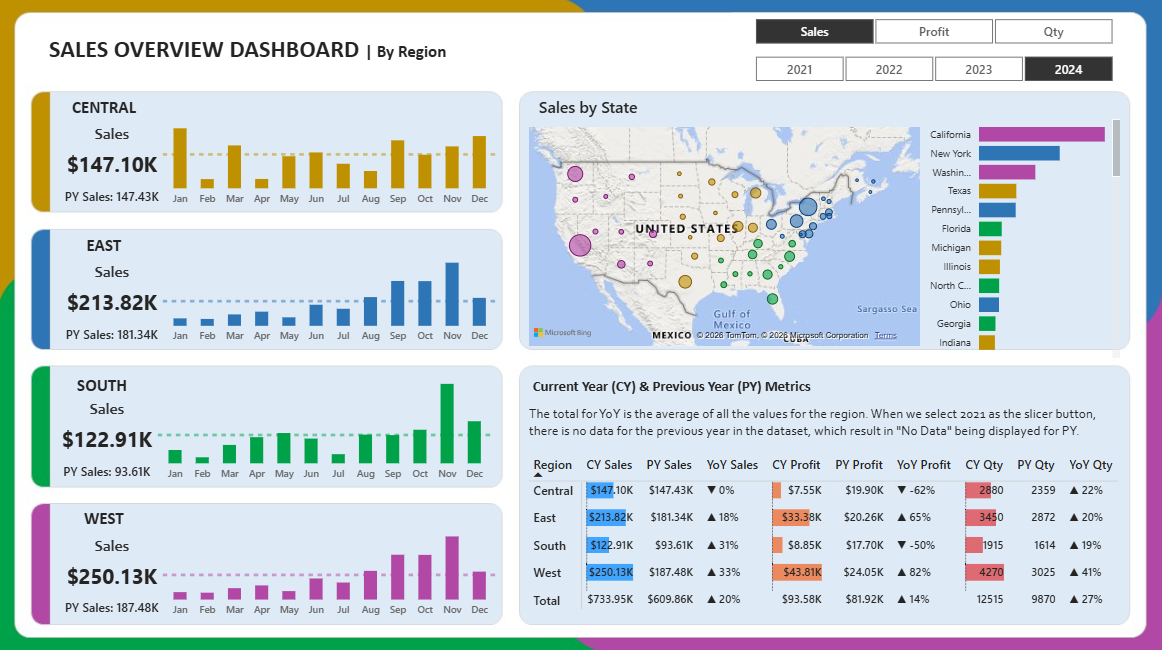

The page's visual inventory and layout, read from the dashboard file:
{"tool":"powerbi","page":{"name":"Page 1","canvas":[1280,720],"ordinal":0},"visuals":[{"type":"slicer","fields":{"Values":["Select Metric.Select Metric"]},"box":[806.9,15.1,441.9,35.7],"z":0},{"type":"card","fields":{"Values":["Sales Data.Total Sales"]},"box":[63.1,163,126.2,39.8],"z":0,"group":"g1"},{"type":"card","fields":{"Values":["Sales Data.Total Sales"]},"box":[63.1,314.6,126.2,39.8],"z":0,"group":"g2"},{"type":"card","fields":{"Values":["Sales Data.Total Sales"]},"box":[57.6,464.9,126.2,39.8],"z":0,"group":"g3"},{"type":"card","fields":{"Values":["Sales Data.Total Sales"]},"box":[63.1,614.8,126.2,39.8],"z":0,"group":"g4"},{"type":"slicer","fields":{"Values":["Calenda Table.Year"]},"box":[806.9,56.3,441.9,39.8],"z":1000},{"type":"textbox","box":[71.3,102.6,91.9,32.9],"z":1000,"group":"g1"},{"type":"textbox","box":[71.3,254.2,91.9,32.9],"z":1000,"group":"g2"},{"type":"textbox","box":[78,406.9,74.1,32.9],"z":1000,"group":"g3"},{"type":"textbox","box":[71.3,554.4,91.9,32.9],"z":1000,"group":"g4"},{"type":"textbox","box":[52.1,32.9,473.4,46.7],"z":2000},{"type":"card","fields":{"Values":["Sales Data.Dynamic Title"]},"box":[89.2,135.5,74.1,27.4],"z":2000,"group":"g1"},{"type":"card","fields":{"Values":["Sales Data.Dynamic Title"]},"box":[89.2,287.1,74.1,27.4],"z":2000,"group":"g2"},{"type":"card","fields":{"Values":["Sales Data.Dynamic Title"]},"box":[83.7,437.4,74.1,27.4],"z":2000,"group":"g3"},{"type":"card","fields":{"Values":["Sales Data.Dynamic Title"]},"box":[89.2,587.3,74.1,27.4],"z":2000,"group":"g4"},{"type":"group","id":"g1","title":"Group 1","box":[57.6,102.6,496.7,133.1],"z":3000},{"type":"card","fields":{"Values":["Sales Data.PY KPI Sales"]},"box":[57.6,202.8,137.2,32.9],"z":3000,"group":"g1"},{"type":"card","fields":{"Values":["Sales Data.PY KPI Sales"]},"box":[57.6,354.4,137.2,32.9],"z":3000,"group":"g2"},{"type":"card","fields":{"Values":["Sales Data.PY KPI Sales"]},"box":[52.1,504.7,137.2,32.9],"z":3000,"group":"g3"},{"type":"card","fields":{"Values":["Sales Data.PY KPI Sales"]},"box":[57.6,654.6,137.2,32.9],"z":3000,"group":"g4"},{"type":"clusteredColumnChart","fields":{"Y":["Sales Data.Total Sales"],"Category":["Calendar Table.Month"]},"box":[177,102.6,377.4,133.1],"z":4000,"group":"g1"},{"type":"group","id":"g2","title":"Group 1","box":[57.6,254.2,496.7,133.1],"z":4000},{"type":"clusteredColumnChart","fields":{"Y":["Sales Data.Total Sales"],"Category":["Calendar Table.Month"]},"box":[177,254.2,377.4,133.1],"z":4000,"group":"g2"},{"type":"clusteredColumnChart","fields":{"Y":["Sales Data.Total Sales"],"Category":["Calendar Table.Month"]},"box":[171.5,404.5,377.4,133.1],"z":4000,"group":"g3"},{"type":"clusteredColumnChart","fields":{"Y":["Sales Data.Total Sales"],"Category":["Calendar Table.Month"]},"box":[177,554.4,377.4,133.1],"z":4000,"group":"g4"},{"type":"group","id":"g3","title":"Group 1","box":[52.1,404.5,496.7,133.1],"z":5000},{"type":"group","id":"g4","title":"Group 1","box":[57.6,554.4,496.7,133.1],"z":6000},{"type":"map","title":"by State","fields":{"Size":["Sales Data.Total Sales"],"Category":["Sales Data.State/Province"],"Series":["Sales Data.Region"]},"box":[579.1,135.8,439.1,249.7],"z":7000},{"type":"barChart","fields":{"Y":["Sales Data.Total Sales"],"Category":["Sales Data.State/Province"],"Series":["Sales Data.Region"]},"box":[1007.2,119.4,230.5,279.9],"z":8000},{"type":"pivotTable","fields":{"Rows":["Sales Data.Region"],"Values":["Sales Data.CY Sales","Sales Data.PY Sales","Sales Data.YoY Sales","Sales Data.CY Profit","Sales Data.PY Profit","Sales Data.YoY Profit","Sales Data.CY Qty","Sales Data.PY Qty","Sales Data.YoY Qty"]},"box":[579.1,495.4,658.7,185.2],"z":9000},{"type":"textbox","box":[583.2,410.3,325.2,37],"z":10000},{"type":"textbox","box":[579.1,440.5,658.7,50.8],"z":11000},{"type":"card","fields":{"Values":["Sales Data.Dynamic Title1"]},"box":[583.2,102.9,131.7,35.7],"z":12000}]}

Visuals, with their boxes in screenshot pixels (x1, y1, x2, y2), scaled from the page's 1280x720 canvas onto the 1162x650 screenshot:
slicer - Select Metric.Select Metric: select_region(733, 14, 1134, 46)
card - Sales Data.Total Sales: select_region(57, 147, 172, 183)
card - Sales Data.Total Sales: select_region(57, 284, 172, 320)
card - Sales Data.Total Sales: select_region(52, 420, 167, 456)
card - Sales Data.Total Sales: select_region(57, 555, 172, 591)
slicer - Calenda Table.Year: select_region(733, 51, 1134, 87)
textbox: select_region(65, 93, 148, 122)
textbox: select_region(65, 229, 148, 259)
textbox: select_region(71, 367, 138, 397)
textbox: select_region(65, 500, 148, 530)
textbox: select_region(47, 30, 477, 72)
card - Sales Data.Dynamic Title: select_region(81, 122, 148, 147)
card - Sales Data.Dynamic Title: select_region(81, 259, 148, 284)
card - Sales Data.Dynamic Title: select_region(76, 395, 143, 420)
card - Sales Data.Dynamic Title: select_region(81, 530, 148, 555)
"Group 1" group: select_region(52, 93, 503, 213)
card - Sales Data.PY KPI Sales: select_region(52, 183, 177, 213)
card - Sales Data.PY KPI Sales: select_region(52, 320, 177, 350)
card - Sales Data.PY KPI Sales: select_region(47, 456, 172, 485)
card - Sales Data.PY KPI Sales: select_region(52, 591, 177, 621)
clusteredColumnChart - Sales Data.Total Sales x Calendar Table.Month: select_region(161, 93, 503, 213)
"Group 1" group: select_region(52, 229, 503, 350)
clusteredColumnChart - Sales Data.Total Sales x Calendar Table.Month: select_region(161, 229, 503, 350)
clusteredColumnChart - Sales Data.Total Sales x Calendar Table.Month: select_region(156, 365, 498, 485)
clusteredColumnChart - Sales Data.Total Sales x Calendar Table.Month: select_region(161, 500, 503, 621)
"Group 1" group: select_region(47, 365, 498, 485)
"Group 1" group: select_region(52, 500, 503, 621)
"by State" map: select_region(526, 123, 924, 348)
barChart - Sales Data.Total Sales x Sales Data.State/Province: select_region(914, 108, 1124, 360)
pivotTable - Sales Data.Region x Sales Data.CY Sales: select_region(526, 447, 1124, 614)
textbox: select_region(529, 370, 825, 404)
textbox: select_region(526, 398, 1124, 444)
card - Sales Data.Dynamic Title1: select_region(529, 93, 649, 125)
